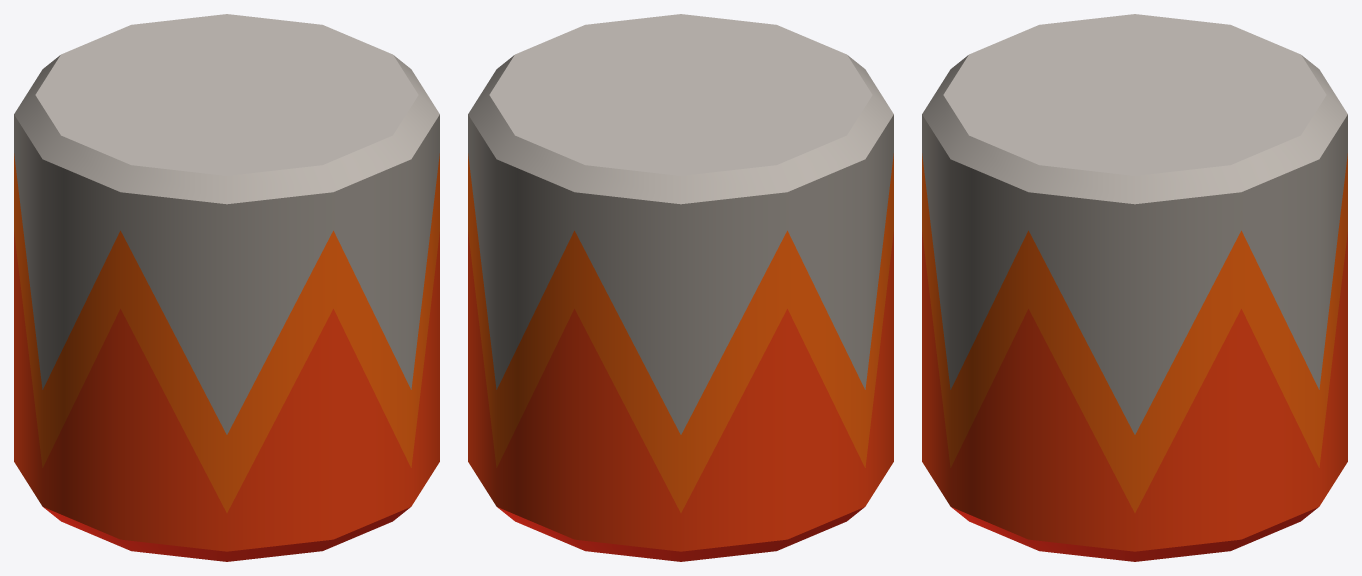
Rendered from m_deco_pillarCylinder_fireB.FBX.
The picture shows the model from 3 angles, left to right: view 1: azimuth 30°, elevation 25°; view 2: azimuth 150°, elevation 25°; view 3: azimuth 270°, elevation 25°; orthographic projection.
Visible parts, largest first — view 1: m_deco_pillarCylinder_fireB; view 2: m_deco_pillarCylinder_fireB; view 3: m_deco_pillarCylinder_fireB.
Boxes of the visible parts, x1,y1,x2,y2 form: m_deco_pillarCylinder_fireB: [14, 14, 439, 561]; m_deco_pillarCylinder_fireB: [468, 14, 893, 561]; m_deco_pillarCylinder_fireB: [922, 14, 1347, 561].
Bounding box in the file's own units: 2 × 2 × 2.
